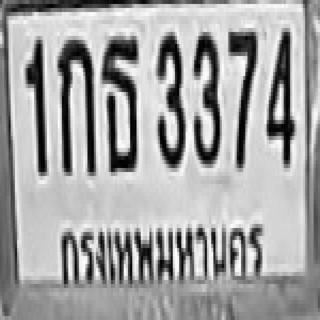A01: (56, 39, 95, 175)
A24: (101, 33, 139, 172)
N01: (24, 41, 46, 177)
N03: (192, 30, 222, 166), (156, 31, 185, 167)
N04: (267, 28, 295, 168)
N07: (227, 32, 257, 168)
P04: (55, 213, 267, 294)
